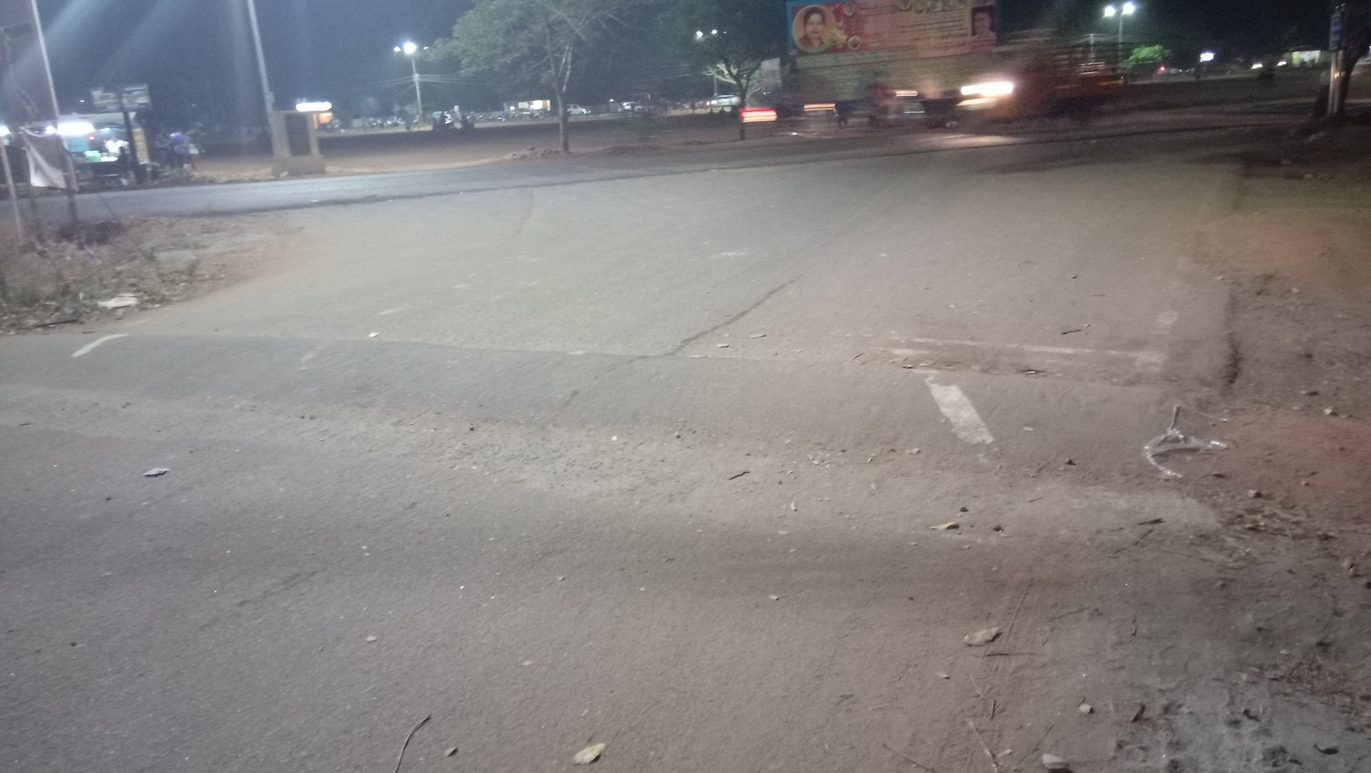bump: (1, 325, 1371, 520)
